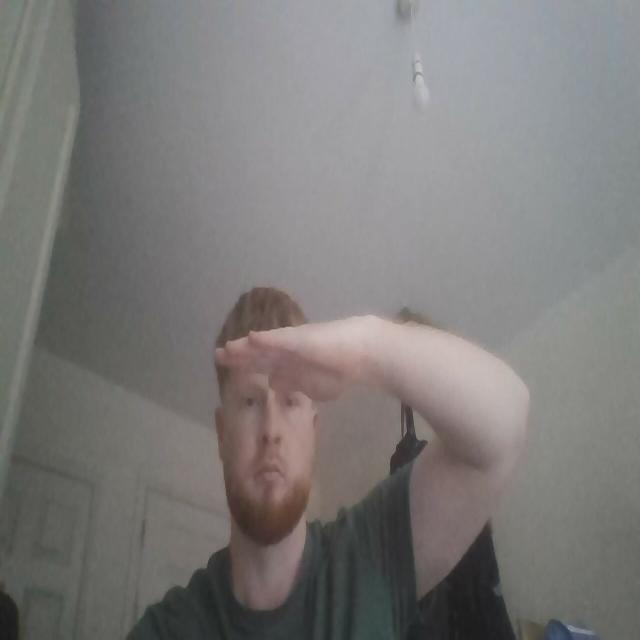papper: (211, 308, 400, 408)
